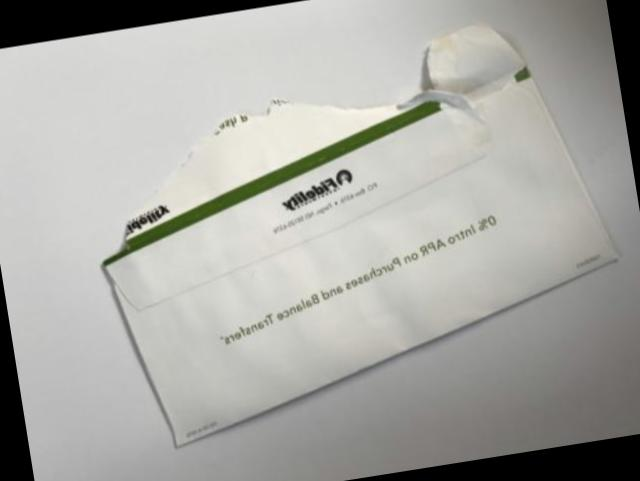cardboard paper: (102, 27, 615, 447)
